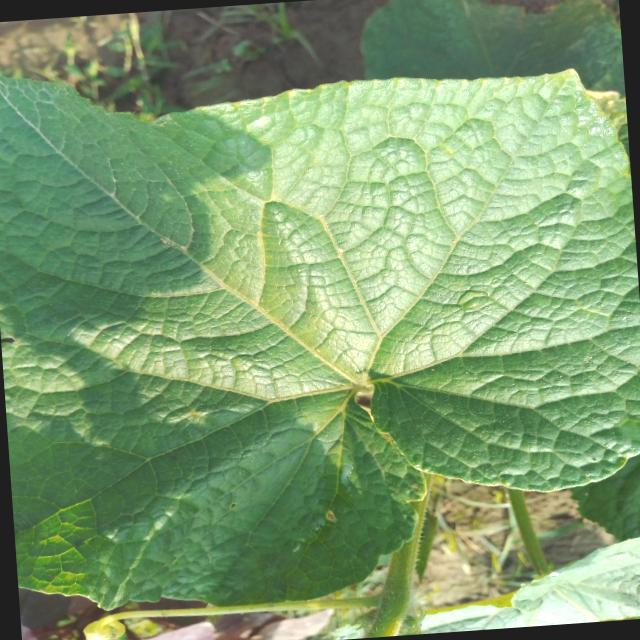cucumber_healthy: (0, 26, 640, 628), (349, 0, 624, 139), (406, 525, 640, 634)
